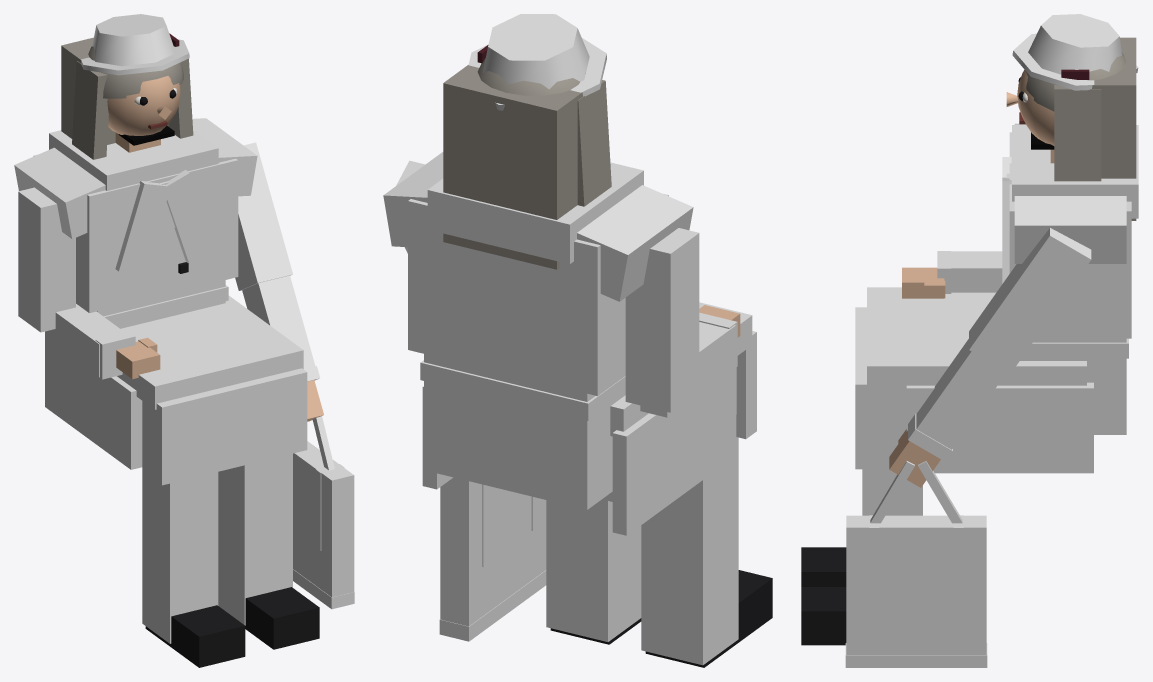
File: NPC_coat_seated.fbx
3 views of the same model, side by side, from view 1: azimuth 30°, elevation 25°; view 2: azimuth 150°, elevation 25°; view 3: azimuth 270°, elevation 25° (orthographic). The views are drawn at different scales.
Visible parts, largest first — view 1: Body_Cloth_CoatBurgundy.001, Body_Cloth_Pants.001, Body_Cloth_CoatTrim.001, Prop_ToteBag_Cloth_ToteCanvas.001, Body_Shoe.001, Arm_L_Cloth_CoatBurgundy.001, Head_Hair.001, Head_Cloth_1f1c22.001, Head_Skin.001, Prop_ToteBag_Cloth_ToteStrap.001, Body_Skin.001; view 2: Body_Cloth_CoatBurgundy.001, Body_Cloth_Pants.001, Head_Hair.001, Body_Cloth_CoatTrim.001, Prop_ToteBag_Cloth_ToteCanvas.001, Head_Cloth_1f1c22.001, Prop_ToteBag_Cloth_ToteStrap.001, Body_Shoe.001; view 3: Body_Cloth_CoatBurgundy.001, Prop_ToteBag_Cloth_ToteCanvas.001, Arm_L_Cloth_CoatBurgundy.001, Head_Hair.001, Body_Cloth_CoatTrim.001, Head_Cloth_1f1c22.001, Prop_ToteBag_Cloth_ToteStrap.001, Body_Shoe.001, Body_Cloth_Pants.001, Head_Skin.001, Body_Skin.001, Arm_L_Skin.001 (+1 smaller).
Boxes of the visible parts, x1,y1,x2,y2 form: Body_Cloth_CoatBurgundy.001: [14, 118, 307, 485]; Body_Cloth_Pants.001: [142, 401, 292, 643]; Body_Cloth_CoatTrim.001: [49, 130, 228, 379]; Prop_ToteBag_Cloth_ToteCanvas.001: [293, 441, 354, 597]; Body_Shoe.001: [145, 262, 319, 667]; Arm_L_Cloth_CoatBurgundy.001: [235, 142, 315, 368]; Head_Hair.001: [61, 37, 193, 159]; Head_Cloth_1f1c22.001: [81, 14, 189, 75]; Head_Skin.001: [107, 76, 180, 135]; Prop_ToteBag_Cloth_ToteStrap.001: [293, 416, 354, 609]; Body_Skin.001: [115, 132, 160, 379]; Body_Cloth_CoatBurgundy.001: [383, 152, 756, 535]; Body_Cloth_Pants.001: [546, 367, 738, 665]; Head_Hair.001: [443, 58, 611, 269]; Body_Cloth_CoatTrim.001: [420, 162, 737, 420]; Prop_ToteBag_Cloth_ToteCanvas.001: [440, 477, 546, 626]; Head_Cloth_1f1c22.001: [468, 14, 606, 110]; Prop_ToteBag_Cloth_ToteStrap.001: [439, 484, 546, 641]; Body_Shoe.001: [550, 570, 772, 667]; Body_Cloth_CoatBurgundy.001: [855, 123, 1131, 473]; Prop_ToteBag_Cloth_ToteCanvas.001: [846, 515, 986, 654]; Arm_L_Cloth_CoatBurgundy.001: [916, 228, 1091, 449]; Head_Hair.001: [1026, 37, 1136, 220]; Body_Cloth_CoatTrim.001: [937, 125, 1138, 358]; Head_Cloth_1f1c22.001: [1012, 14, 1138, 90]; Prop_ToteBag_Cloth_ToteStrap.001: [845, 461, 987, 667]; Body_Shoe.001: [801, 547, 846, 645]; Body_Cloth_Pants.001: [862, 392, 922, 515]; Head_Skin.001: [1006, 69, 1054, 145]; Body_Skin.001: [902, 149, 1054, 298]; Arm_L_Skin.001: [889, 429, 940, 487].
Bounding box in the file's own units: 0.6095 × 1.38 × 0.72.
